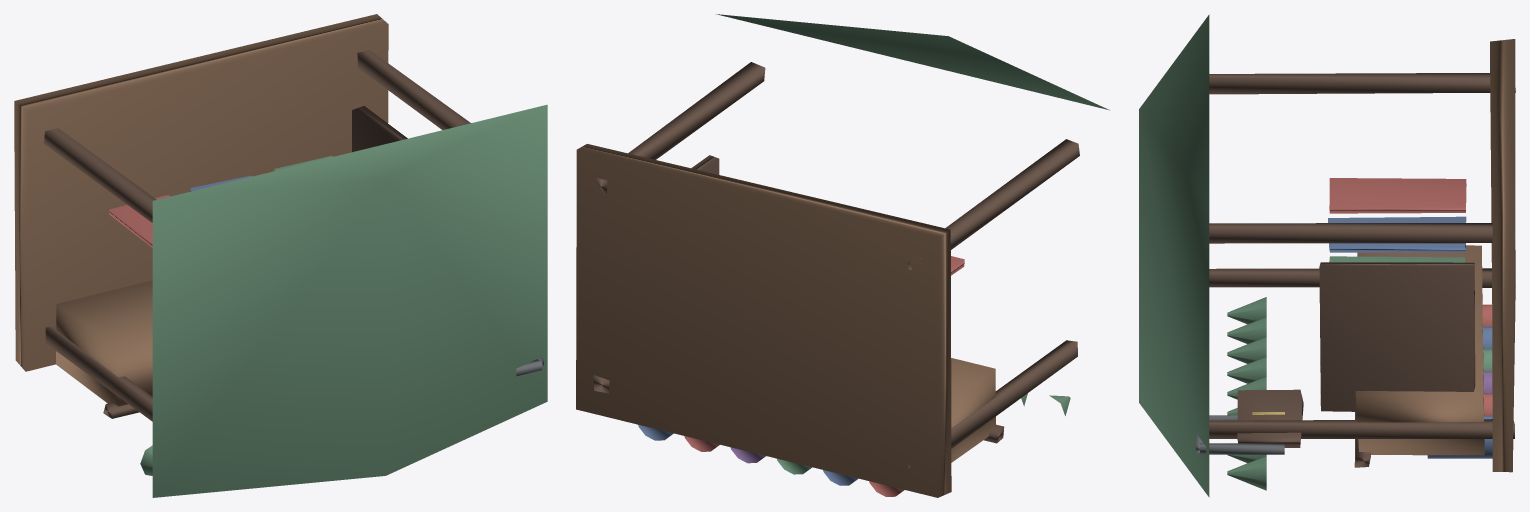
The model's file is cloth_stall_hd.glb.
The picture shows the model from 3 angles, left to right: view 1: azimuth 30°, elevation 25°; view 2: azimuth 150°, elevation 25°; view 3: azimuth 270°, elevation 25°; orthographic projection.
Bounding box in the file's own units: 4.8 × 3.55 × 4.01.
